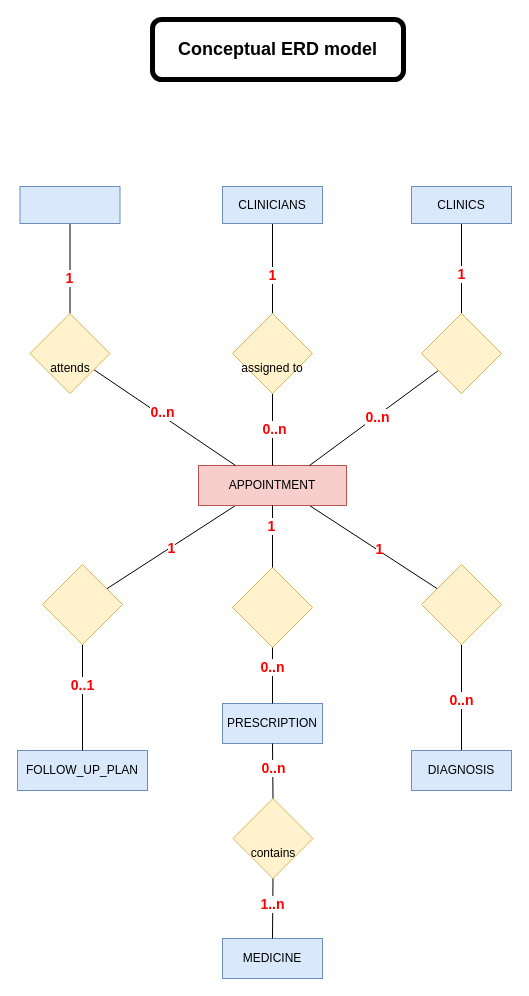
The diagram is 529 pixels wide and 996 high, and some of its shapes have lost their labels. The box of each missing label's shape, as (x1, y1, x2, y2) in pixels:
generates: (42, 564, 122, 644)
has: (420, 564, 502, 644)
hosts: (420, 312, 502, 394)
PATIENTS: (19, 186, 120, 224)
results in: (232, 566, 312, 648)
